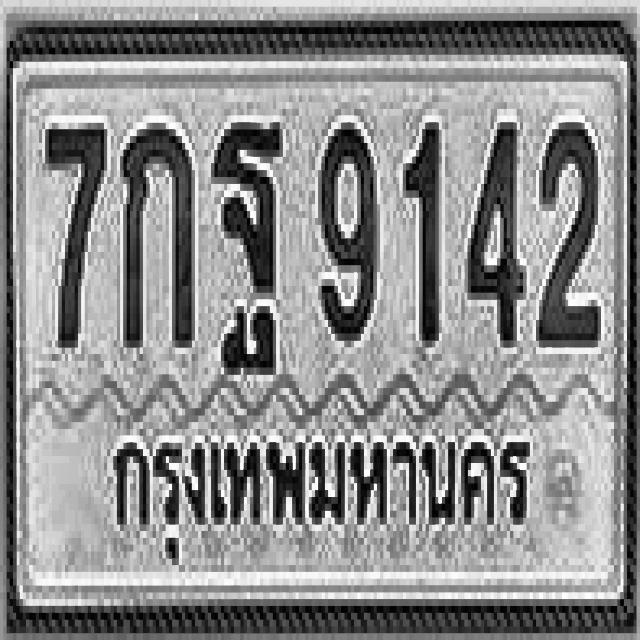license-plate: (9, 32, 632, 622)
